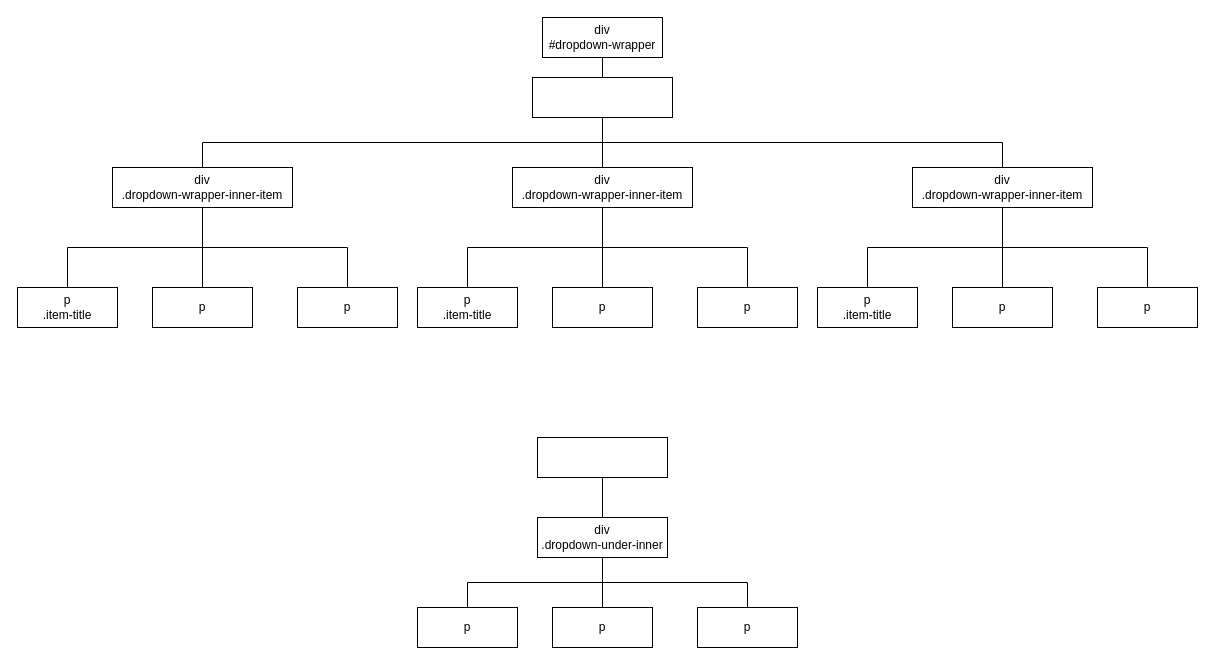
Image size: 1215x665. Some labels were removed from this diagram. Here are the shapes that lost their labels. From the top down, the centre of each, then its label:
At (x=602, y=97): "div .dropdown-wrapper-inner".
At (x=602, y=457): "div .dropdown-under-bg".
